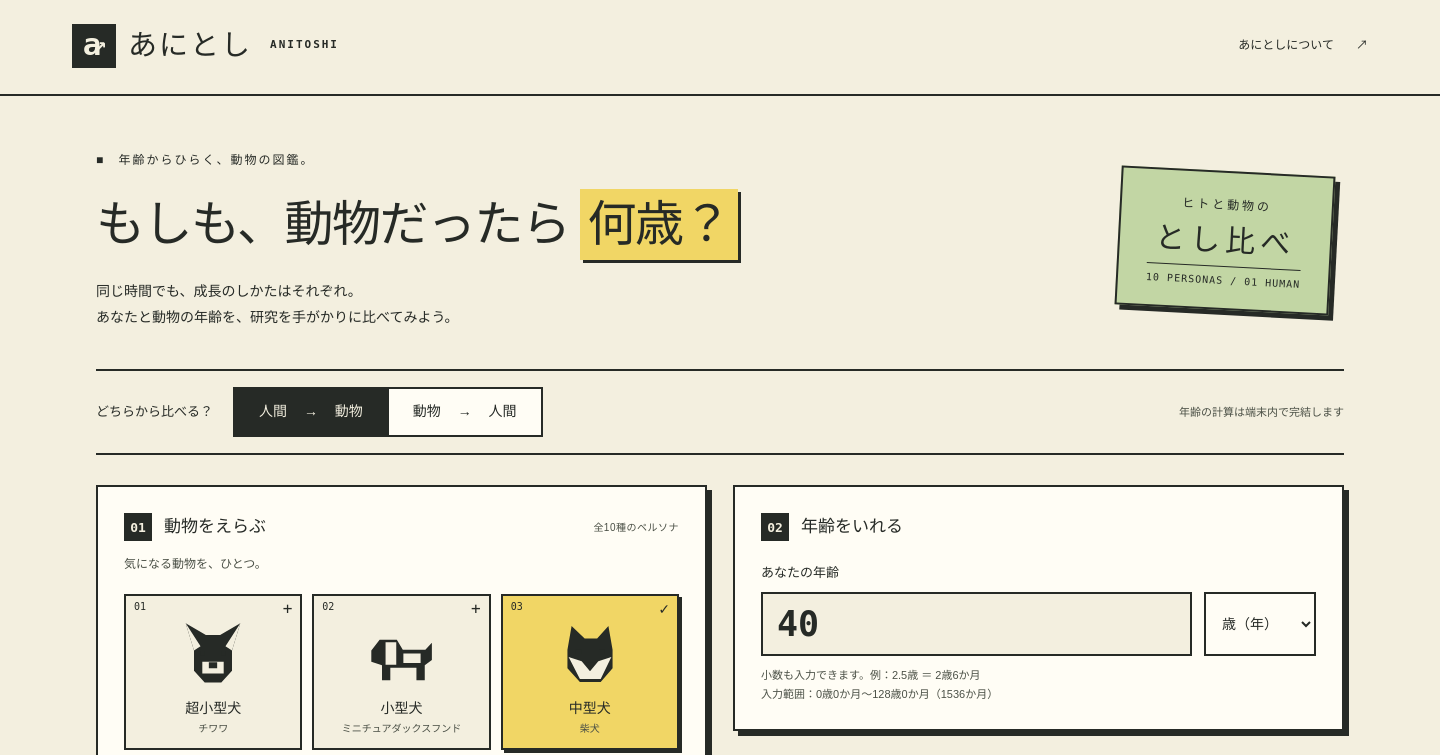
Test: conversion interface › labels birth, young and extreme human ages as mathematical extensions
Replace the text in the field labelled "あなたの年齢" with "0" at x=976, y=624, box [761,592,1192,656]
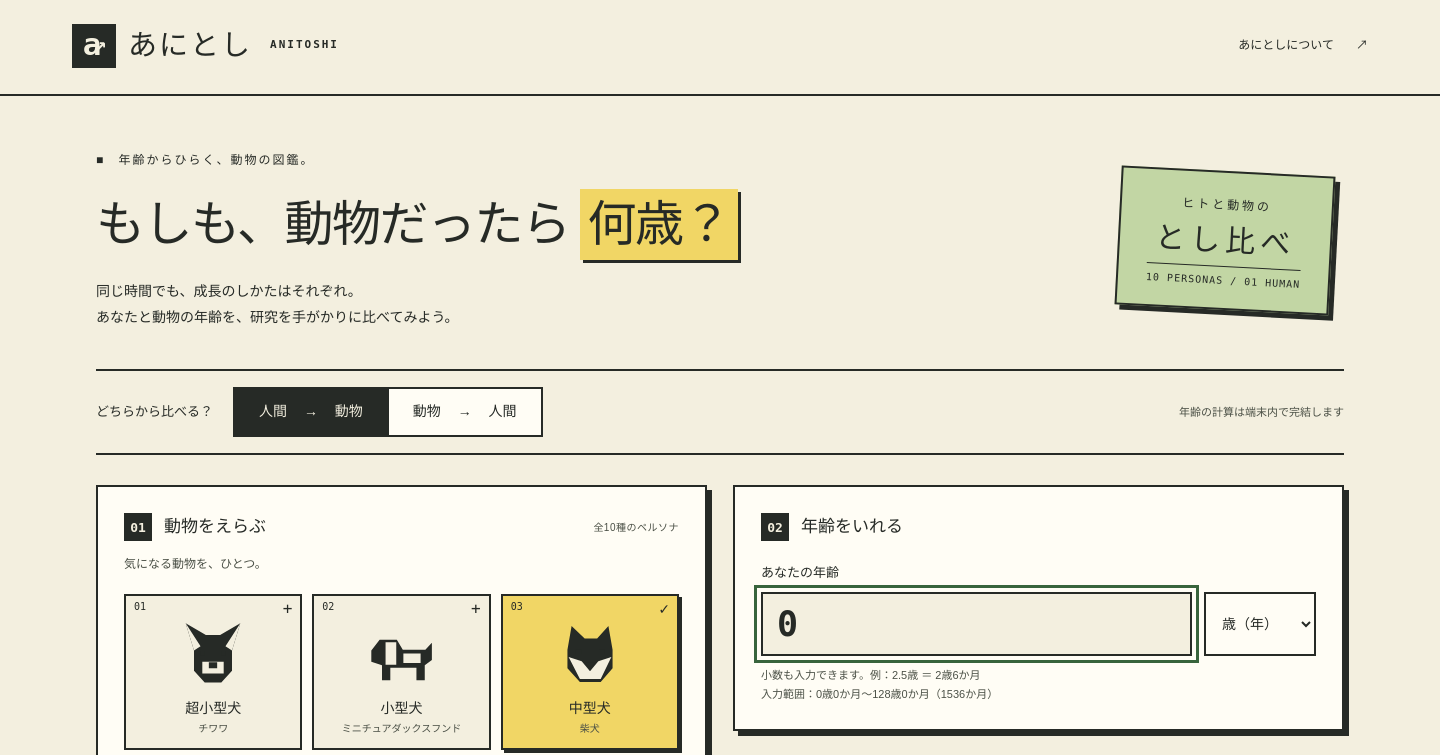
Replace the text in the field labelled "あなたの年齢" with "1" at x=976, y=624, box [761,592,1192,656]
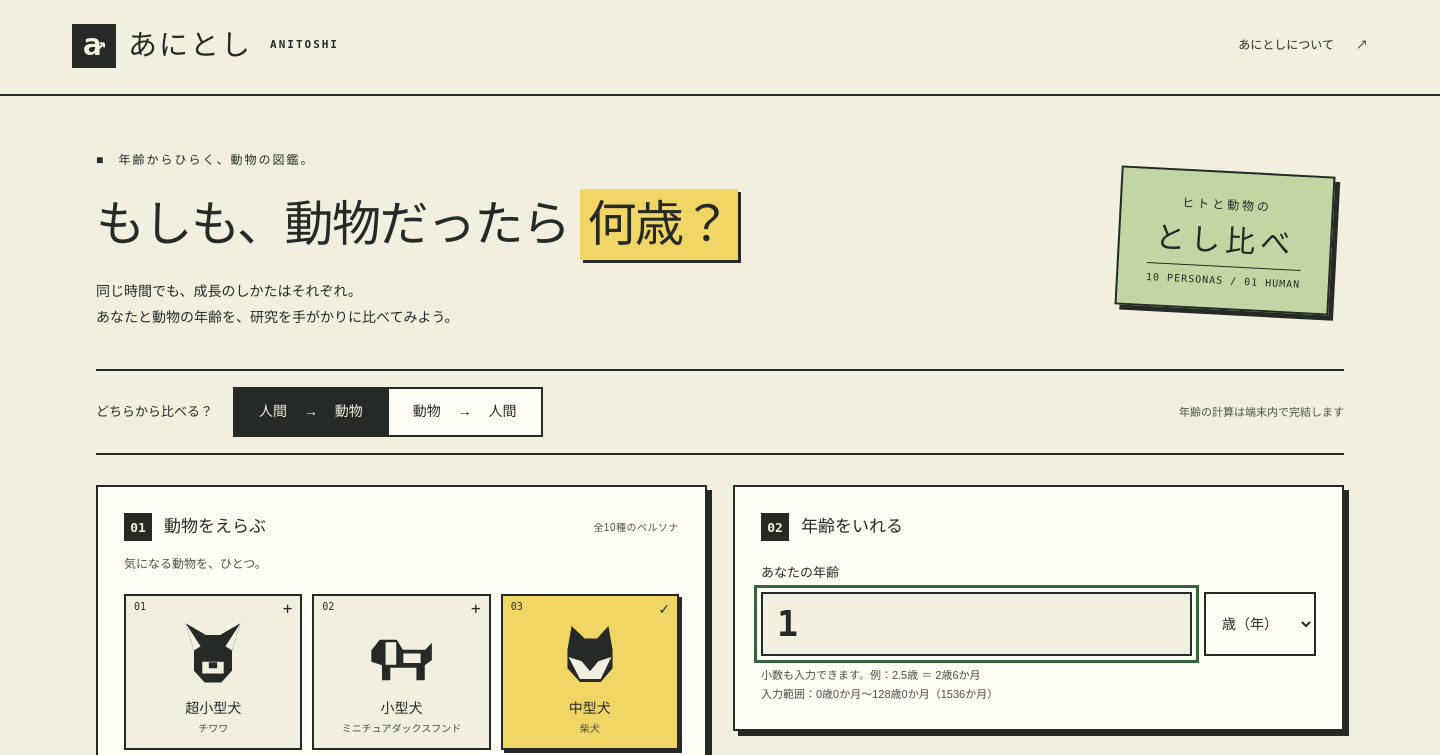
Replace the text in the field labelled "あなたの年齢" with "28" at x=976, y=624, box [761,592,1192,656]
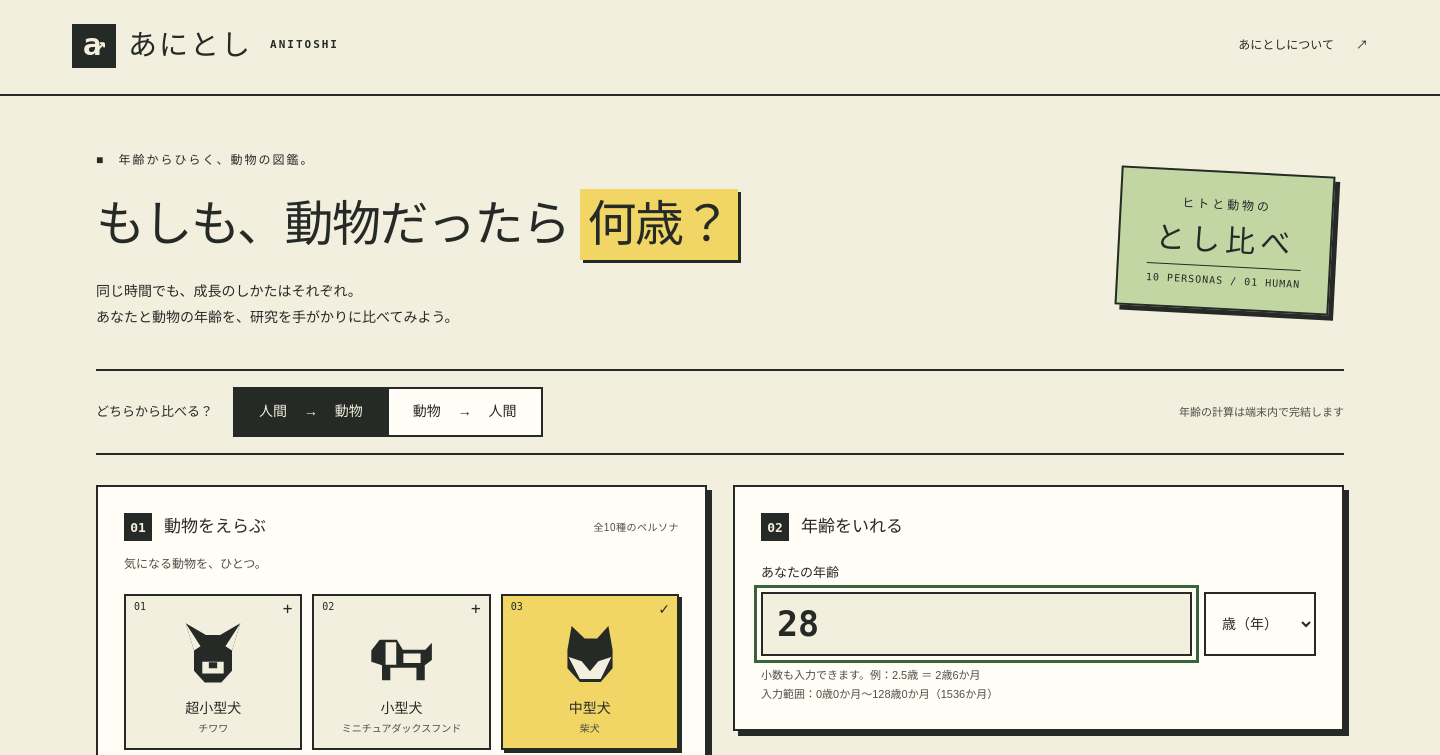
Replace the text in the field labelled "あなたの年齢" with "128" at x=976, y=624, box [761,592,1192,656]
(page scrolled)
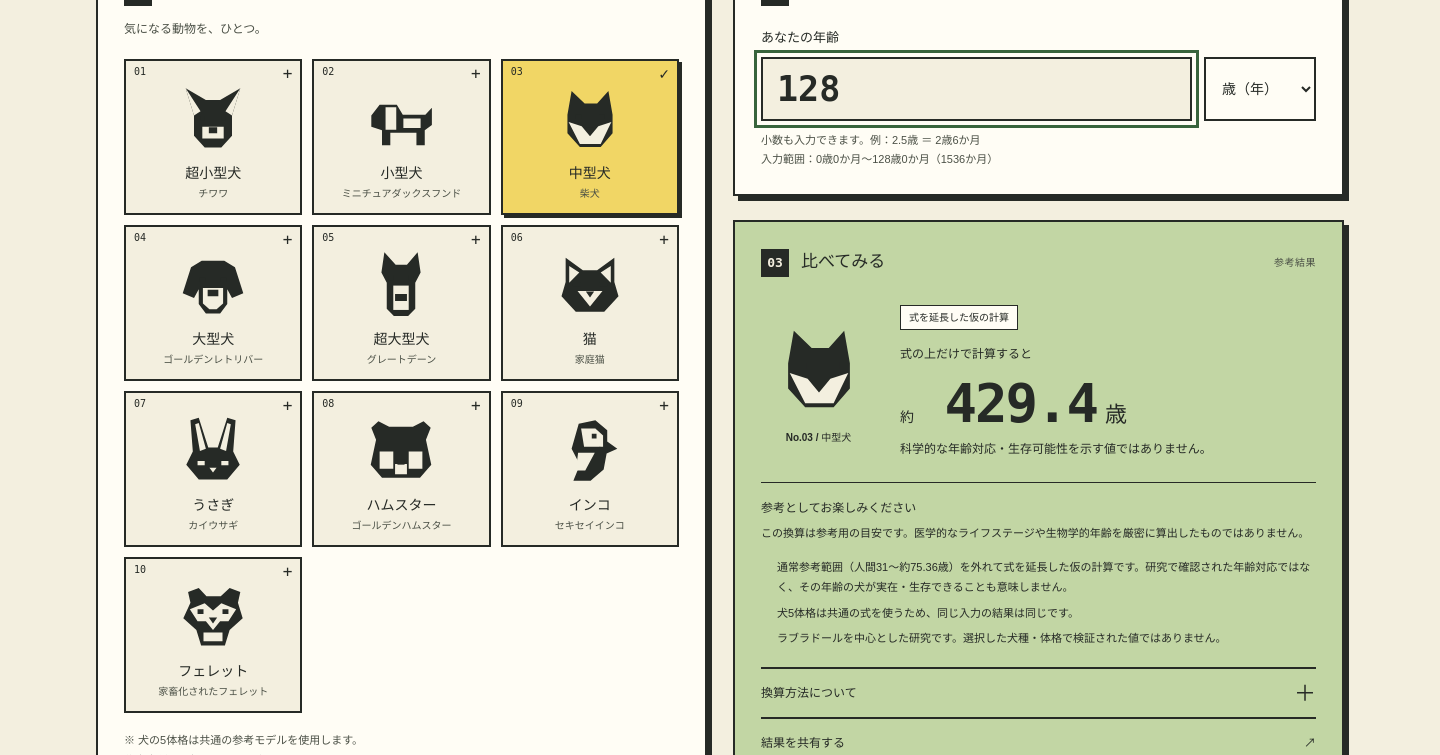
expect the text "式を延長した仮の計算" is shown: met, box [900,305,1018,330]
expect the message shows "429.4": met, box [944,372,1097,435]
expect the message shows "科学的な年齢対応・生存可能性を示す値ではありません": met, box [900,442,1212,456]
